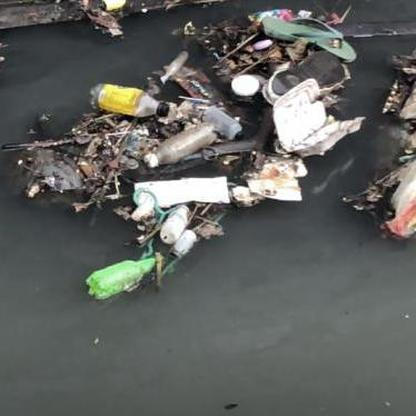foam: (273, 79, 366, 156), (133, 175, 230, 204)
plastic bottle: (146, 123, 214, 167), (89, 82, 169, 117), (204, 106, 244, 138), (161, 204, 191, 243)
